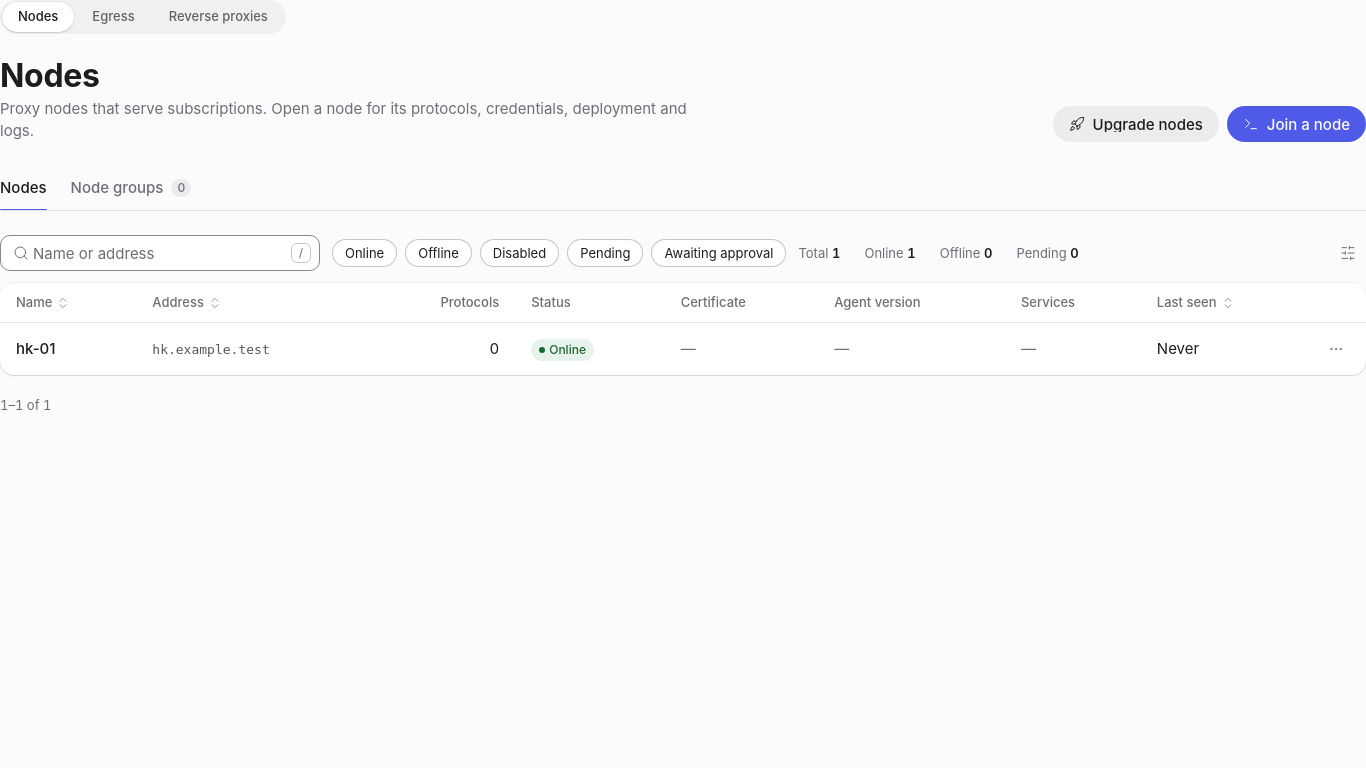
Test: Nodes dialogs and feedback › validates the edit sheet inline, keeps a failed save in it and reports a save with a toast
Click the button named "Actions for hk-01": (1336, 349) [1322,335,1350,363]
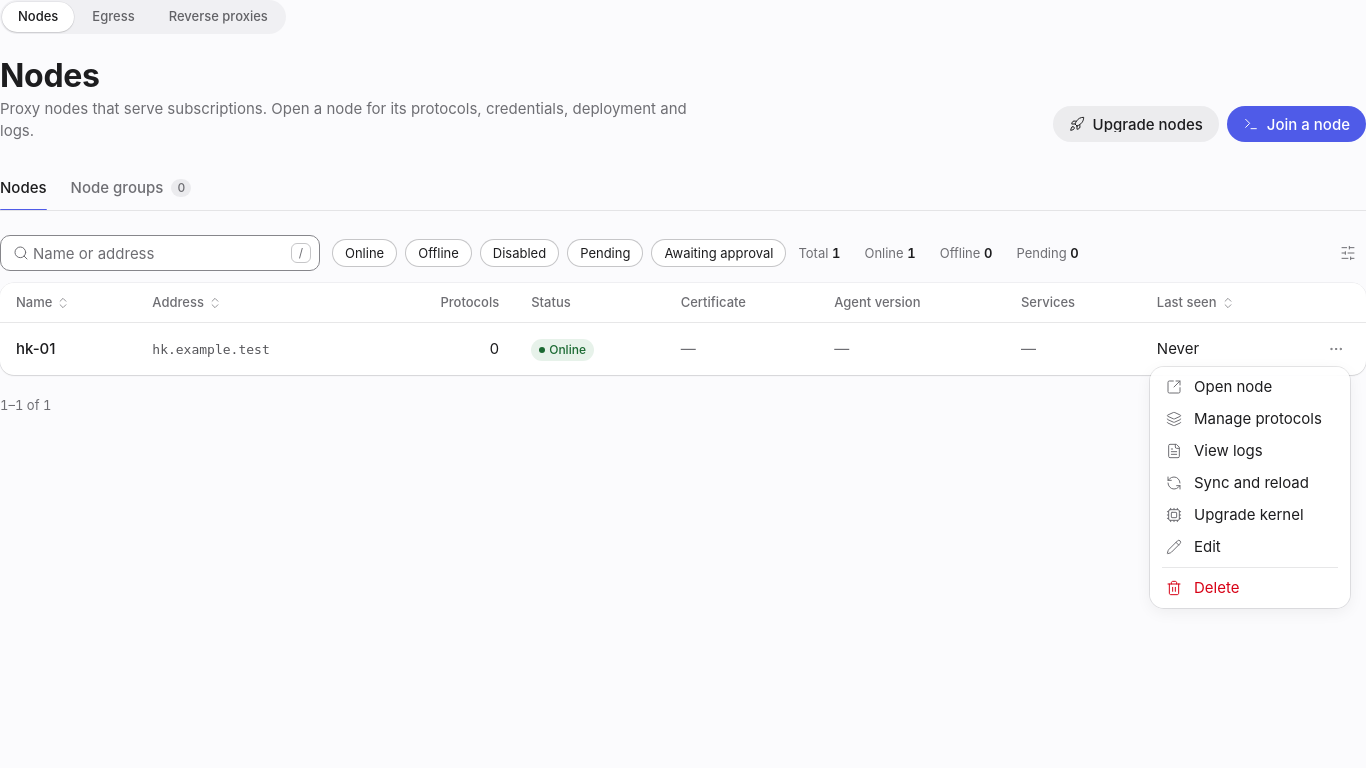
Click the menu item "Edit": (1193, 546) [1166,537,1221,556]
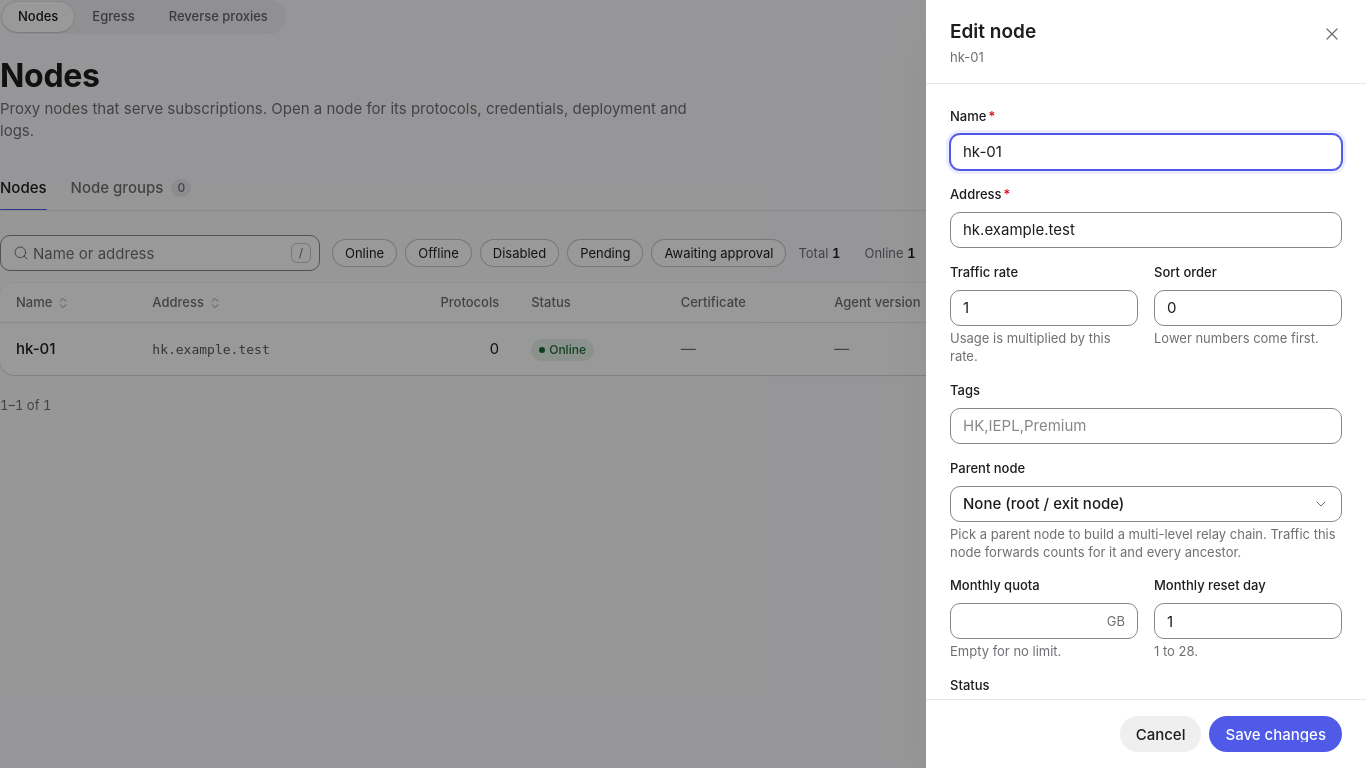
Clear the field labelled "Name *": (1146, 152) [951,135,1341,169]
Click the button "Save changes": (1276, 734) [1210,716,1342,752]
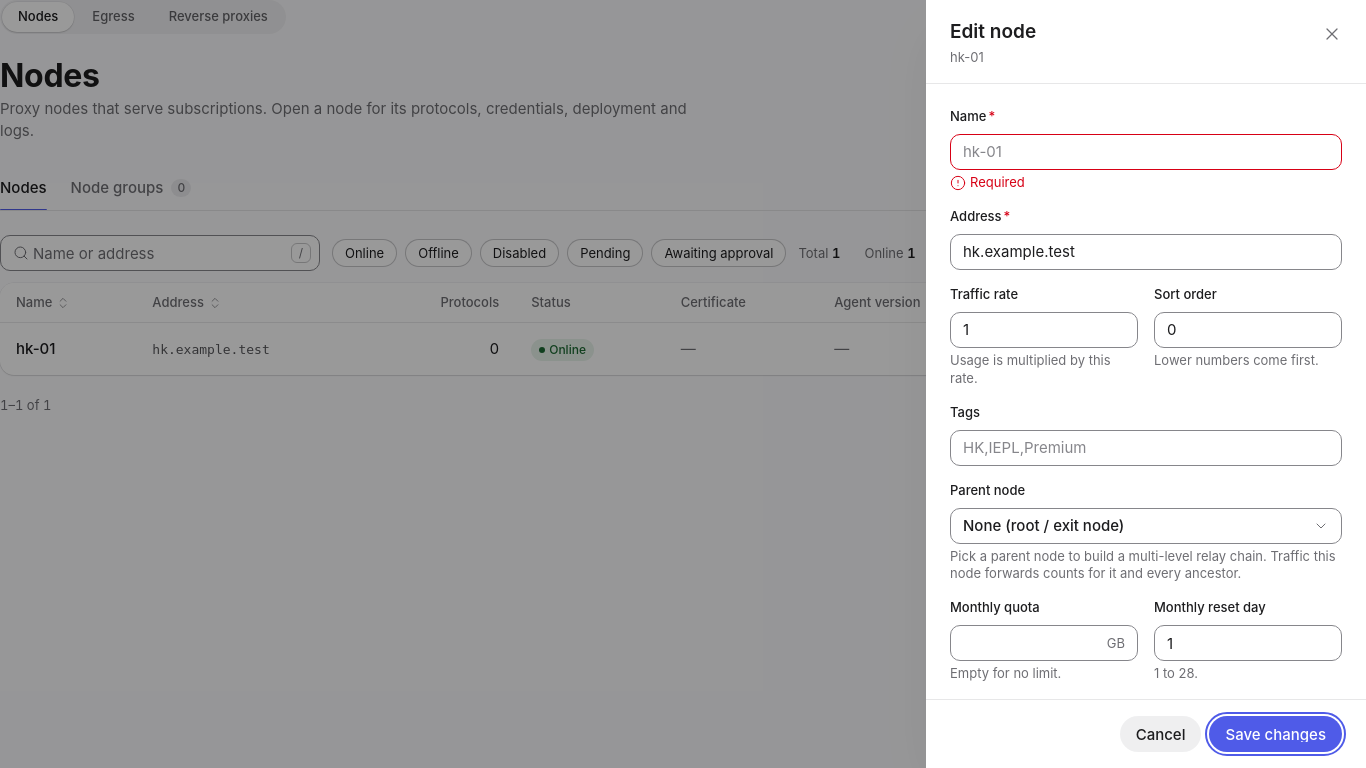
Check: the text "Required" is shown once, box [970,174,1025,192]
In the field labelled "Name *": (1146, 152) [951,135,1341,169], type "sg-02"
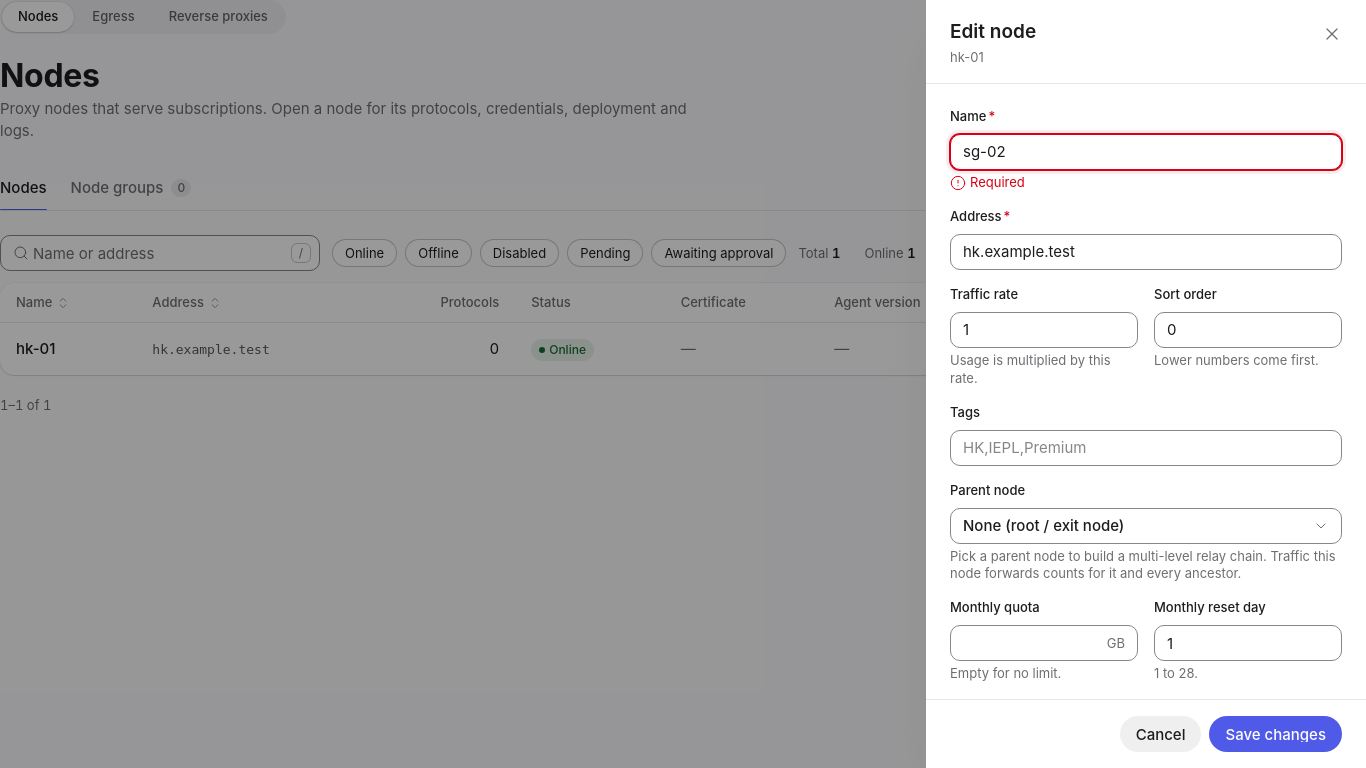
Click the button "Save changes": (1276, 734) [1210,716,1342,752]
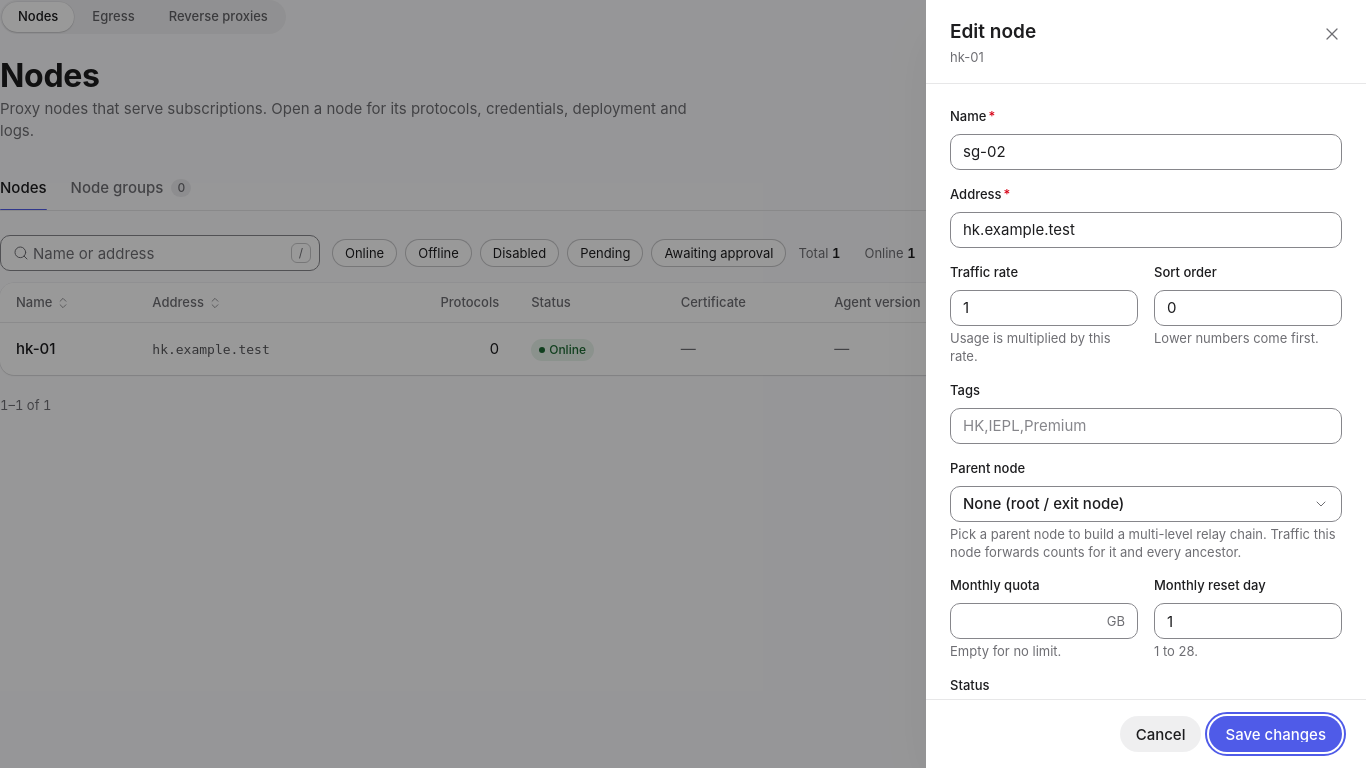
Check: the dialog "Edit node" is shown, box [926,0,1365,767]
Click the button "Save changes": (1276, 734) [1210,716,1342,752]
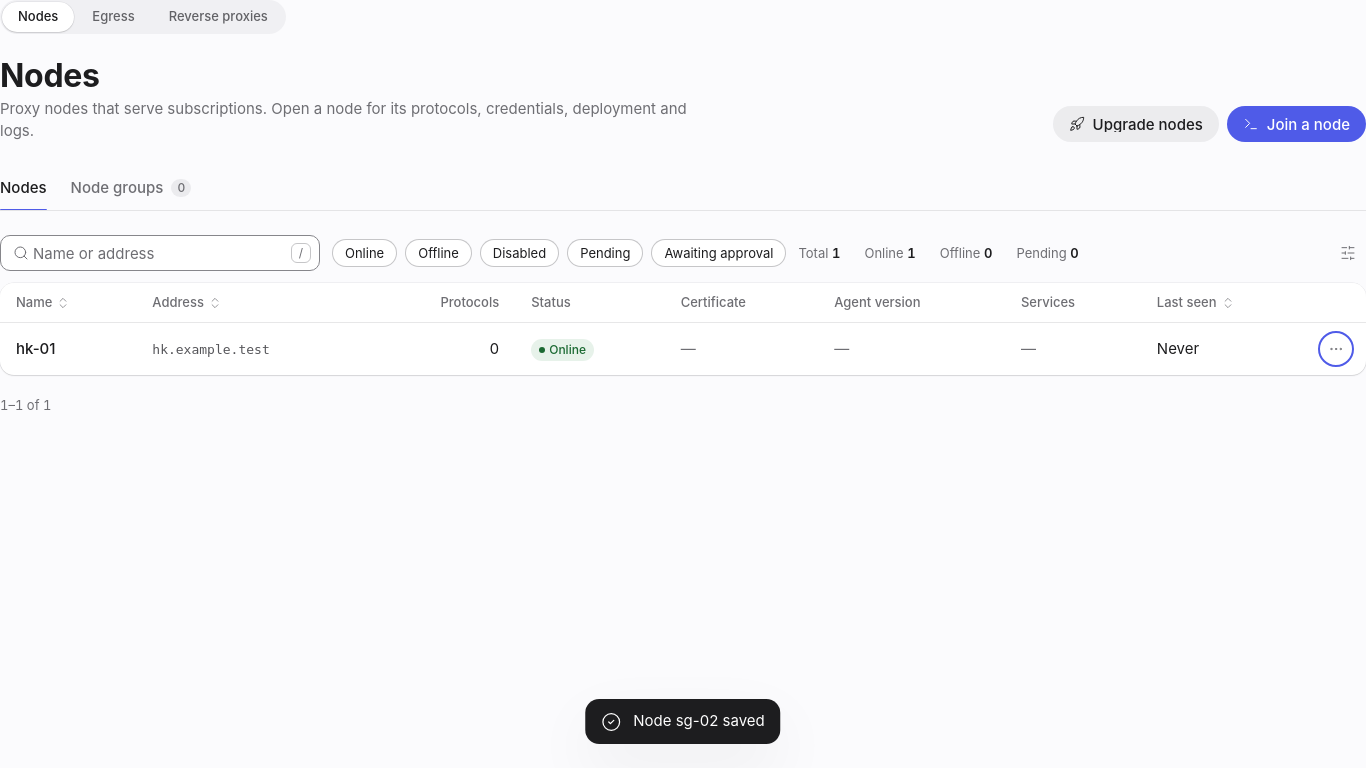
Check: the dialog is gone
